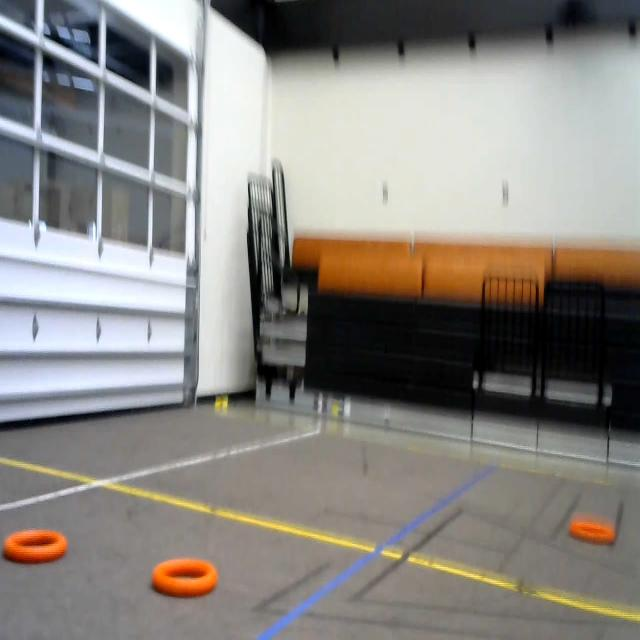note: (150, 551, 219, 608), (4, 518, 70, 569), (562, 503, 618, 555)
